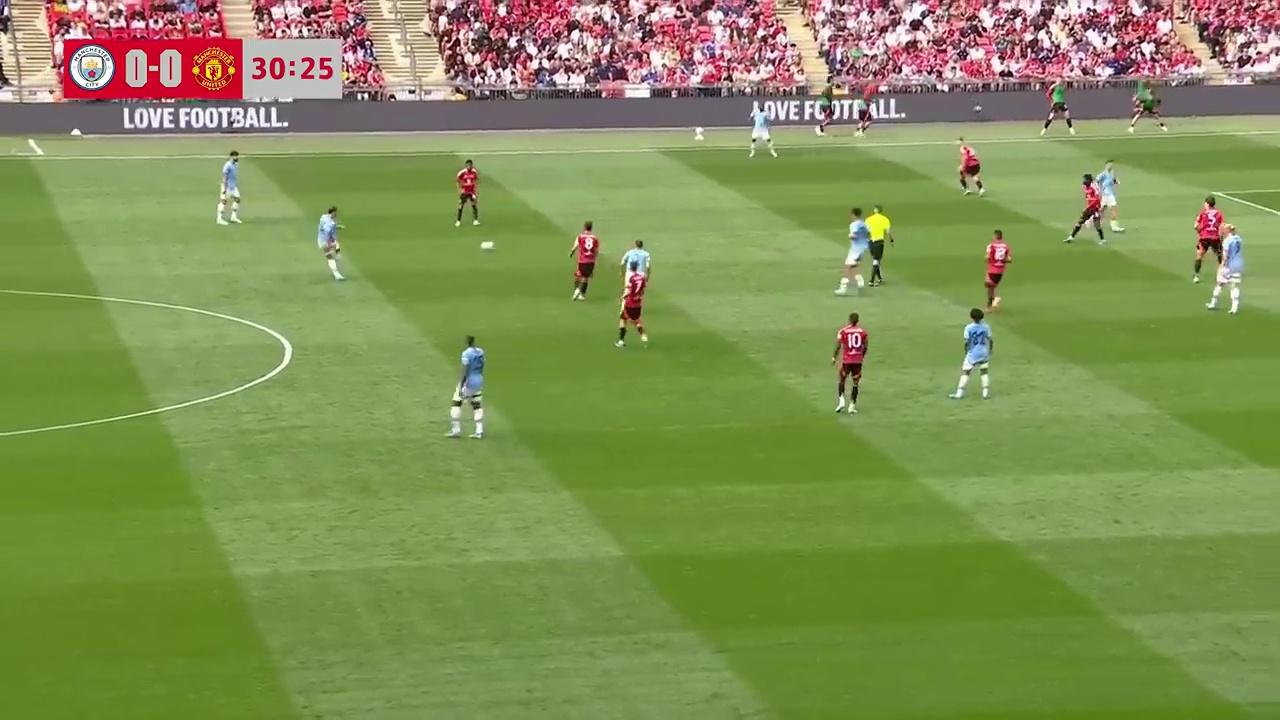ball: (478, 236, 496, 251)
player: (447, 335, 486, 439), (950, 308, 993, 400), (831, 312, 868, 414), (1206, 224, 1244, 314), (1191, 196, 1226, 284), (615, 260, 649, 349), (834, 208, 870, 292), (1065, 175, 1107, 245), (568, 221, 600, 301), (984, 229, 1011, 312), (317, 205, 345, 281), (1095, 159, 1122, 233), (217, 150, 242, 225), (453, 159, 480, 228), (623, 238, 651, 295), (748, 104, 777, 158), (957, 139, 984, 197)
referee: (865, 204, 895, 285)
